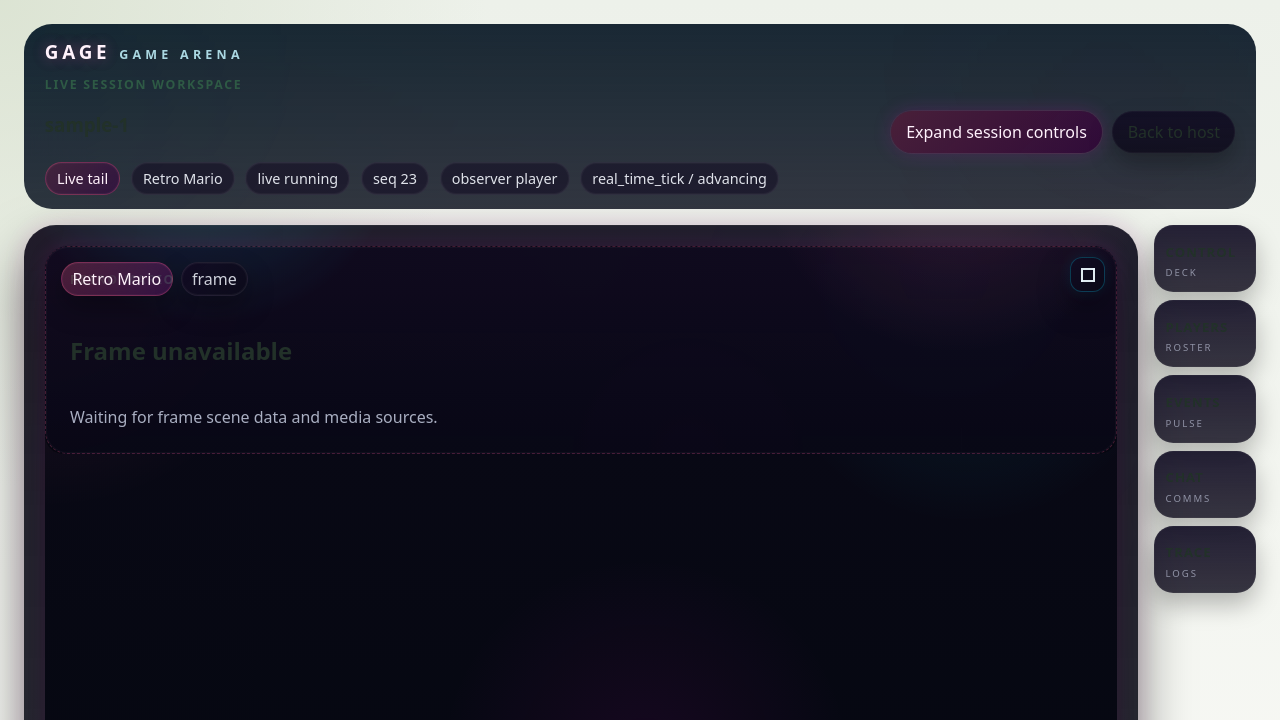
it: SessionPage › keeps the live utility rail available during pure human realtime play while leaving the timeline hidden
Expected: the navigation bar named "session utility rail" is shown, [1154,225,1256,593]
Expected: the button "Control Deck" is shown, [1154,225,1256,292]
Click the button "Players Roster": click(1205, 334) [1154,300,1256,367]
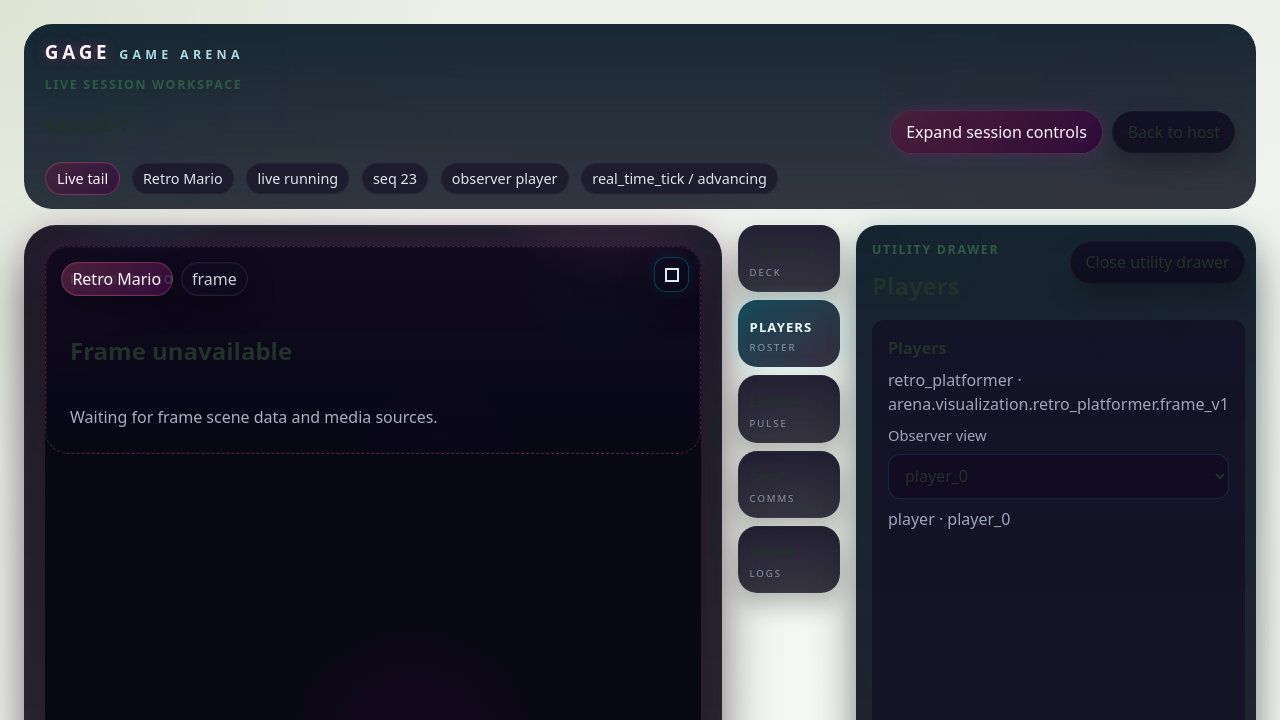
Expected: the button "Close utility drawer" is shown, [1070,241,1245,284]
Expected: the dropdown labelled "Observer view" is shown, [888,454,1229,499]
